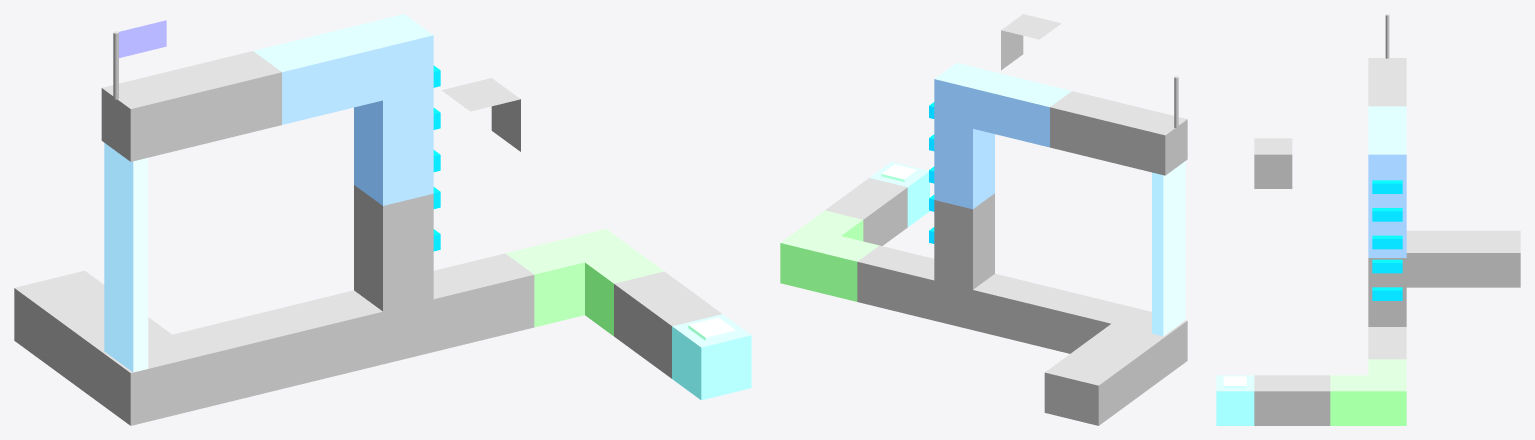
File: level2.0.gltf
3 renders of one model, left to right at view 1: azimuth 30°, elevation 25°; view 2: azimuth 150°, elevation 25°; view 3: azimuth 270°, elevation 25°, orthographic. The views are drawn at different scales.
Visible parts, largest first — view 1: Box_break, Box (×2), Box_3, Box_son, Boxbottom, Box_2, Box_Parent, Box4, Boxdad2, Box5, Boxson2, Box3 (+3 smaller); view 2: Box (×2), Box_break, Box_2, Box_3, Box_son, Boxbottom, Boxdad2, Box_Parent, Box4, Box5, Boxson2, Box3 (+2 smaller); view 3: Box_2, Box4, Box_son, Box (×2), Boxdad2, Boxson2, Box_3, Box5, Box2, Box_Parent, Box3, Box_t3 (+5 smaller).
Boxes of the visible parts, x1,y1,x2,y2 form: Box_break: (101,290,382,425); Box (×2): (354,185,534,364); Box_3: (101,51,281,161); Box_son: (354,14,433,205); Boxbottom: (104,143,148,372); Box_2: (14,270,171,404); Box_Parent: (253,26,382,124); Box4: (614,271,721,378); Boxdad2: (505,229,634,327); Box5: (672,314,751,400); Boxson2: (585,250,663,335); Box3: (441,78,520,111); Box (×2): (857,193,994,329); Box_break: (973,273,1187,376); Box_2: (1044,323,1165,425); Box_3: (1050,91,1187,175); Box_son: (934,63,994,209); Boxbottom: (1152,161,1185,336); Boxdad2: (780,226,879,301); Box_Parent: (973,72,1071,147); Box4: (825,178,907,245); Box5: (869,161,929,227); Boxson2: (803,210,863,241); Box3: (1001,14,1061,39); Box_2: (1406,230,1520,287); Box4: (1254,375,1330,425); Box_son: (1368,138,1406,257); Box (×2): (1368,258,1406,359); Boxdad2: (1368,359,1406,425); Boxson2: (1330,375,1368,425); Box_3: (1368,58,1406,106); Box5: (1216,375,1254,425); Box2: (1254,154,1292,188); Box_Parent: (1368,106,1406,138); Box3: (1254,138,1292,154); Box_t3: (1372,235,1402,249).
Bounding box in the file's own units: 10.05 × 7.25 × 8.
